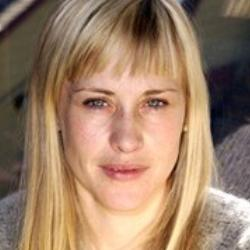face: (17, 1, 220, 244)
